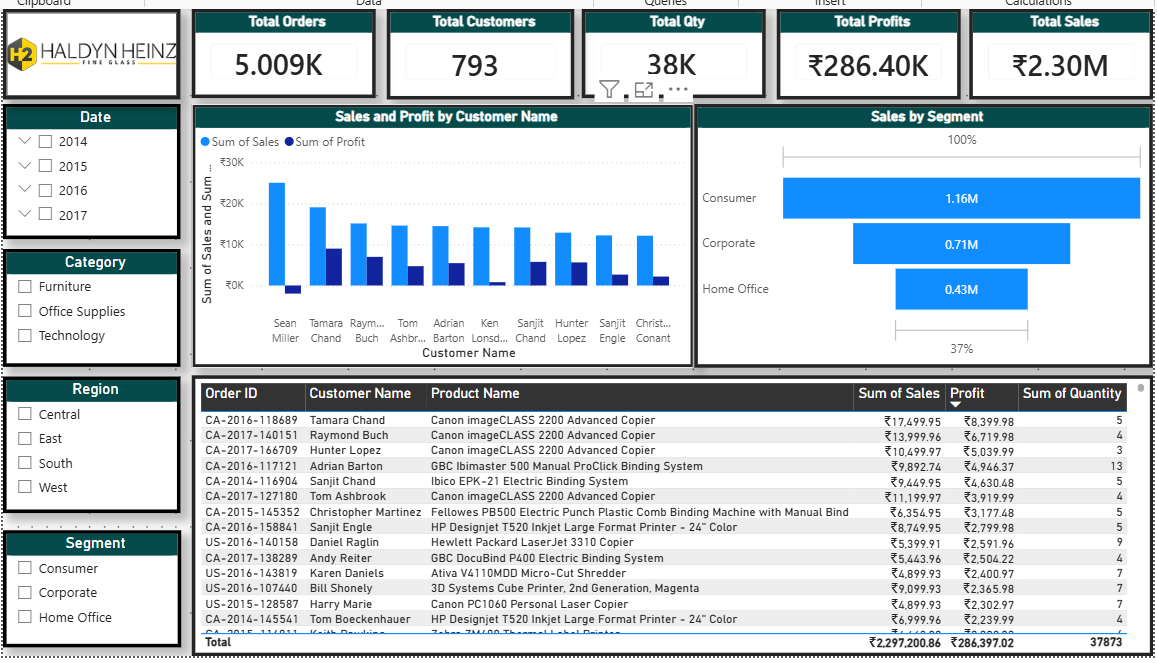

Layout of this report page (visuals, bound fields, positions):
{"tool":"powerbi","page":{"name":"Customer Analysis","canvas":[1280,720],"ordinal":5},"visuals":[{"type":"cardVisual","title":"Total Profits","fields":{"Data":["Sum(Orders.Profit)"]},"box":[861,0,205,100.7],"z":0},{"type":"cardVisual","title":"Total Qty","fields":{"Data":["Sum(Orders.Quantity)"]},"box":[644,0.6,205,99.6],"z":1000},{"type":"cardVisual","title":"Total Customers","fields":{"Data":["Count(Orders.Customer ID)"]},"box":[427,0,209,100.7],"z":2000},{"type":"cardVisual","title":"Total Orders","fields":{"Data":["Count(Orders.Order ID)"]},"box":[209.9,0.6,205,99.6],"z":3000},{"type":"cardVisual","title":"Total Sales","fields":{"Data":["Sum(Orders.Sales)"]},"box":[1075,0,205,100.7],"z":4000},{"type":"slicer","title":"Date","fields":{"Values":["Orders.Order Date.Variation.Date Hierarchy.Year","Orders.Order Date.Variation.Date Hierarchy.Quarter","Orders.Order Date.Variation.Date Hierarchy.Month","Orders.Order Date.Variation.Date Hierarchy.Day"]},"box":[0,106.4,197.9,150.5],"z":5000},{"type":"slicer","title":"Category","fields":{"Values":["Orders.Category"]},"box":[0,266.9,197.9,131.6],"z":6000},{"type":"slicer","title":"Region","fields":{"Values":["Orders.Region"]},"box":[0,408.4,197.9,151.7],"z":7000},{"type":"slicer","title":"Segment","fields":{"Values":["Orders.Segment"]},"box":[0,580,198,130],"z":8000},{"type":"image","box":[0,0,197.9,100.7],"z":9000},{"type":"clusteredColumnChart","title":"Sales and Profit by Customer Name","fields":{"Category":["Orders.Customer Name"],"Y":["Sum(Orders.Sales)","Sum(Orders.Profit)"]},"box":[210.1,105.7,559.3,293.6],"z":10000},{"type":"funnel","title":"Sales by Segment","fields":{"Category":["Orders.Segment"],"Y":["Sum(Orders.Sales)"]},"box":[769.4,105.7,510.6,293.6],"z":11000},{"type":"tableEx","fields":{"Values":["Orders.Order ID","Orders.Customer Name","Orders.Product Name","Sum(Orders.Sales)","Sum(Orders.Profit)","Sum(Orders.Quantity)"]},"box":[210,407.1,1070,312.9],"z":12000}]}

Visuals, with their boxes on the page's 1280x720 design canvas (x1, y1, x2, y2). These are canvas units, not pixel positions in the 1157x670 screenshot, which may show the page scaled, cropped or inside an application window:
"Total Profits" cardVisual: bbox=(861, 0, 1066, 101)
"Total Qty" cardVisual: bbox=(644, 1, 849, 100)
"Total Customers" cardVisual: bbox=(427, 0, 636, 101)
"Total Orders" cardVisual: bbox=(210, 1, 415, 100)
"Total Sales" cardVisual: bbox=(1075, 0, 1280, 101)
"Date" slicer: bbox=(0, 106, 198, 257)
"Category" slicer: bbox=(0, 267, 198, 398)
"Region" slicer: bbox=(0, 408, 198, 560)
"Segment" slicer: bbox=(0, 580, 198, 710)
image: bbox=(0, 0, 198, 101)
"Sales and Profit by Customer Name" clusteredColumnChart: bbox=(210, 106, 769, 399)
"Sales by Segment" funnel: bbox=(769, 106, 1280, 399)
tableEx - Orders.Order ID x Orders.Customer Name: bbox=(210, 407, 1280, 720)
